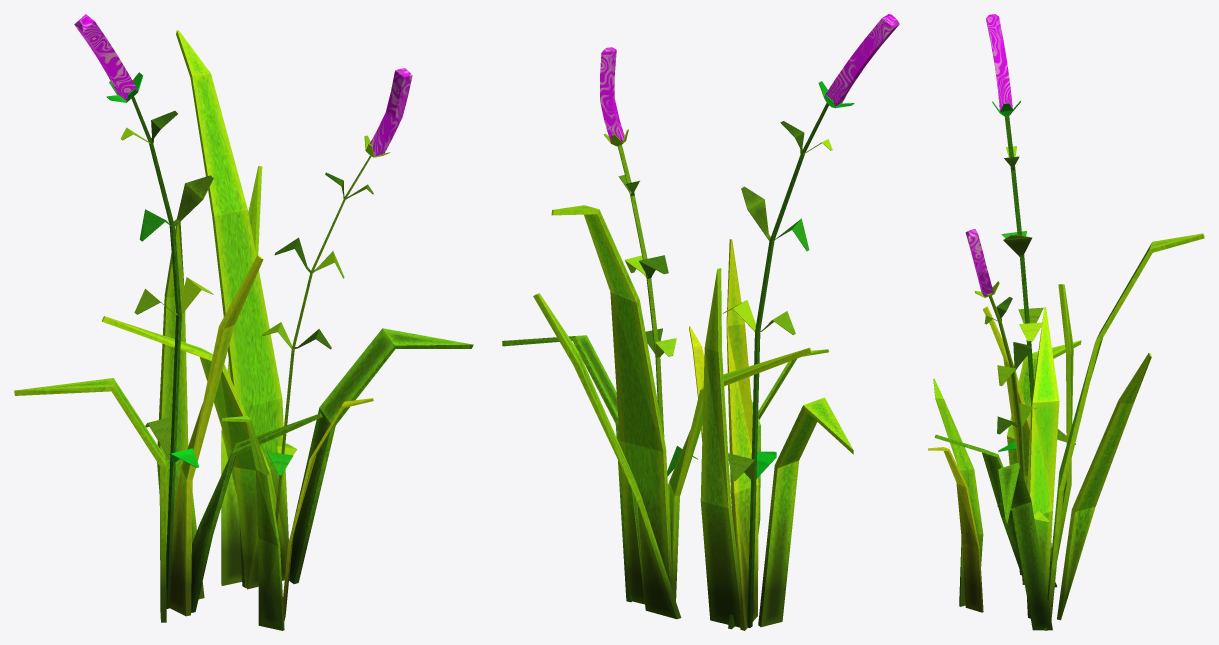
The model's file is flor.fbx.
3 views of the same model, side by side, from view 1: azimuth 30°, elevation 25°; view 2: azimuth 150°, elevation 25°; view 3: azimuth 270°, elevation 25° (orthographic). The views are drawn at different scales.
Parts seen in each view (by area): view 1: Plane; view 2: Plane; view 3: Plane.
Boxes of the visible parts, box(x1,y1,x2,y2) form: Plane: box(14, 14, 473, 630); Plane: box(502, 14, 899, 630); Plane: box(928, 14, 1204, 630).
Bounding box in the file's own units: 26.71 × 39.65 × 19.06.
